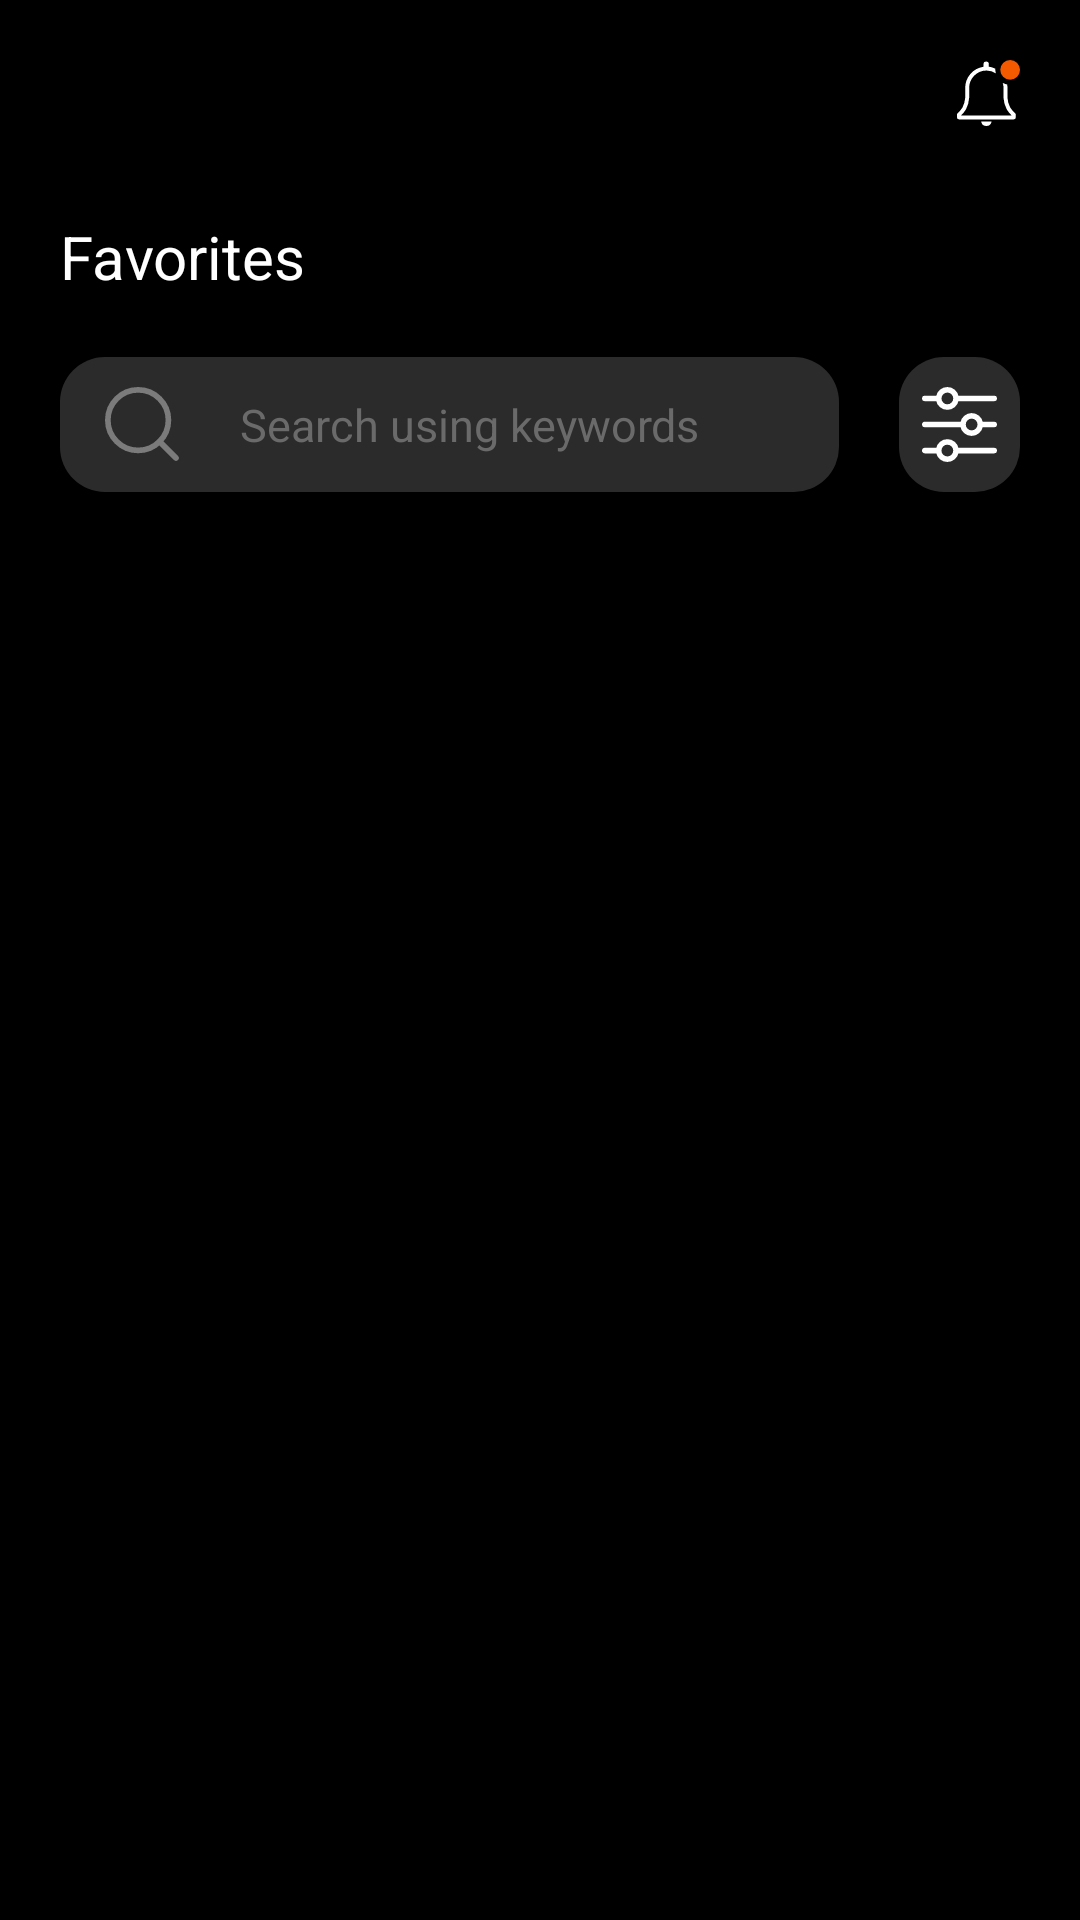

Screen size 1080px×1920px. Icon name, then its center in pixels as (x=x, y=y):
filter: (x=959, y=424)
notifications: (x=988, y=93)
